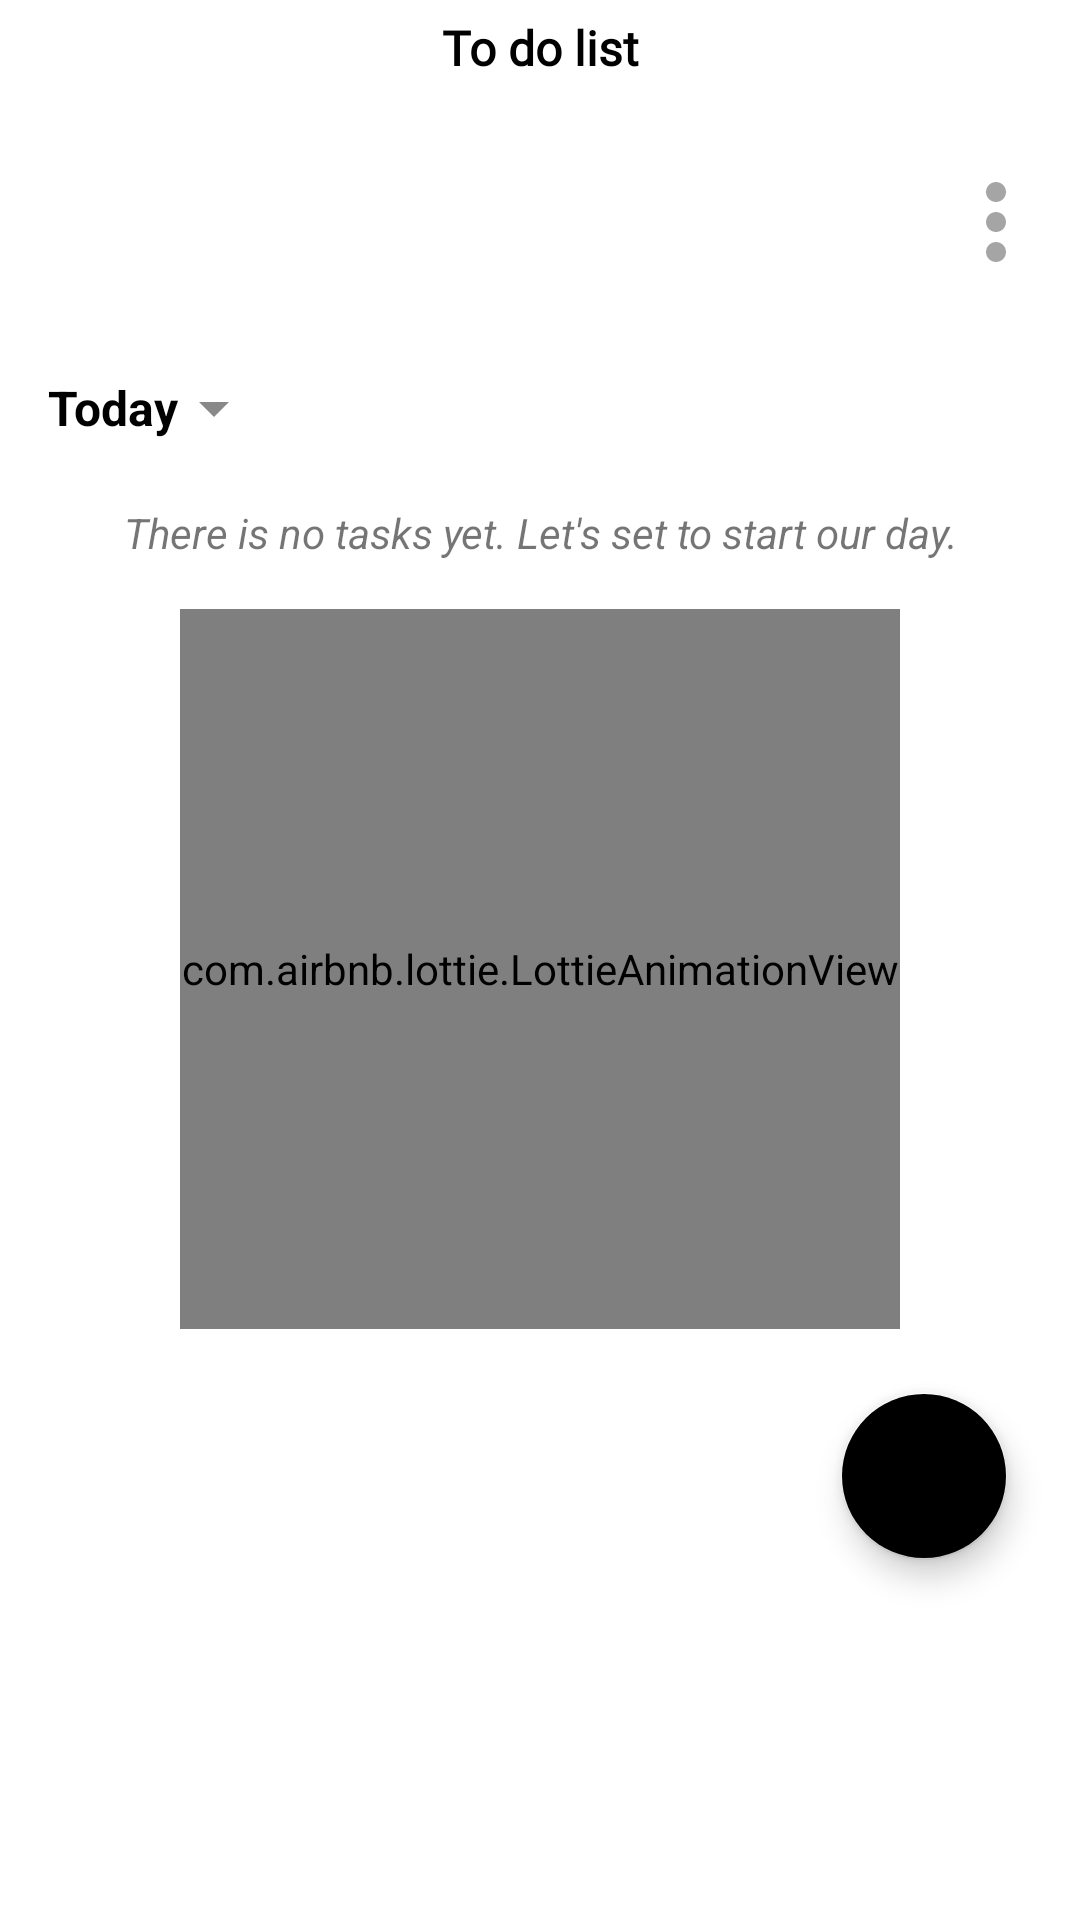

Icon bounding boxes for this 1080px×1920px phone screenshot, format (x1, y1, x2, y2):
more: (986, 182, 1006, 262)
